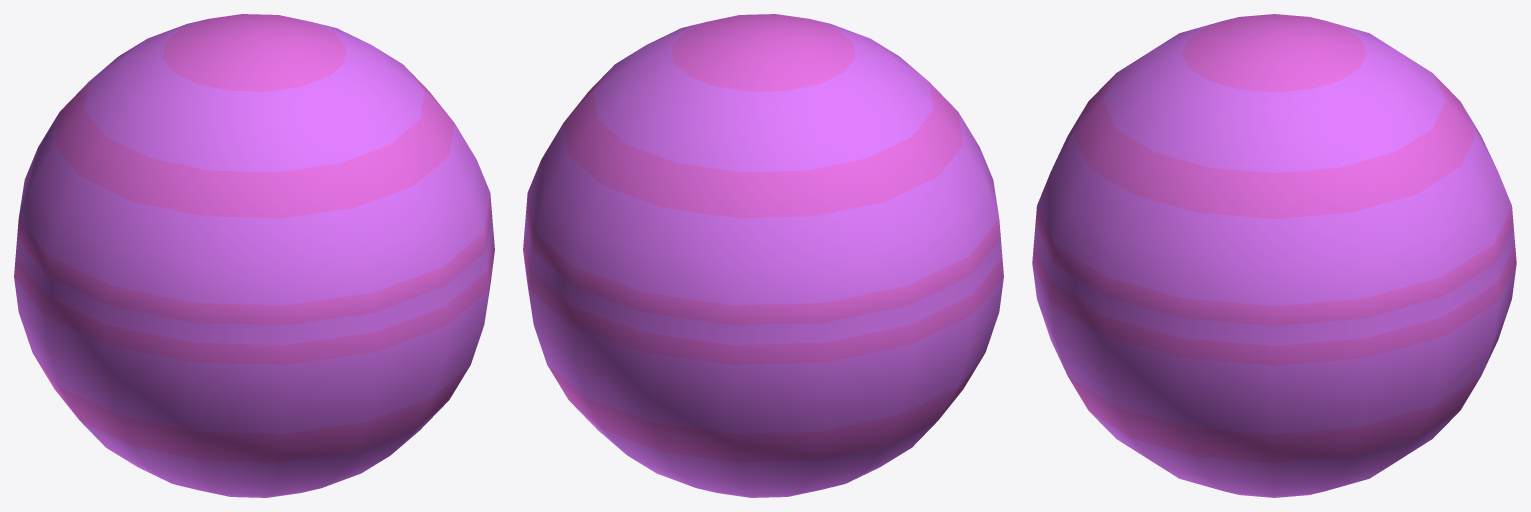
The model's file is pink_ball.fbx.
The picture shows the model from 3 angles, left to right: view 1: azimuth 30°, elevation 25°; view 2: azimuth 150°, elevation 25°; view 3: azimuth 270°, elevation 25°; orthographic projection.
Visible parts, largest first — view 1: pink_ball; view 2: pink_ball; view 3: pink_ball.
Part boxes in pixels (x1,y1,x2,y2): pink_ball: (14,14,494,497); pink_ball: (523,14,1003,497); pink_ball: (1032,14,1516,497).
Bounding box in the file's own units: 0.7432 × 0.7432 × 0.7432.
1 material, 1 textured.
